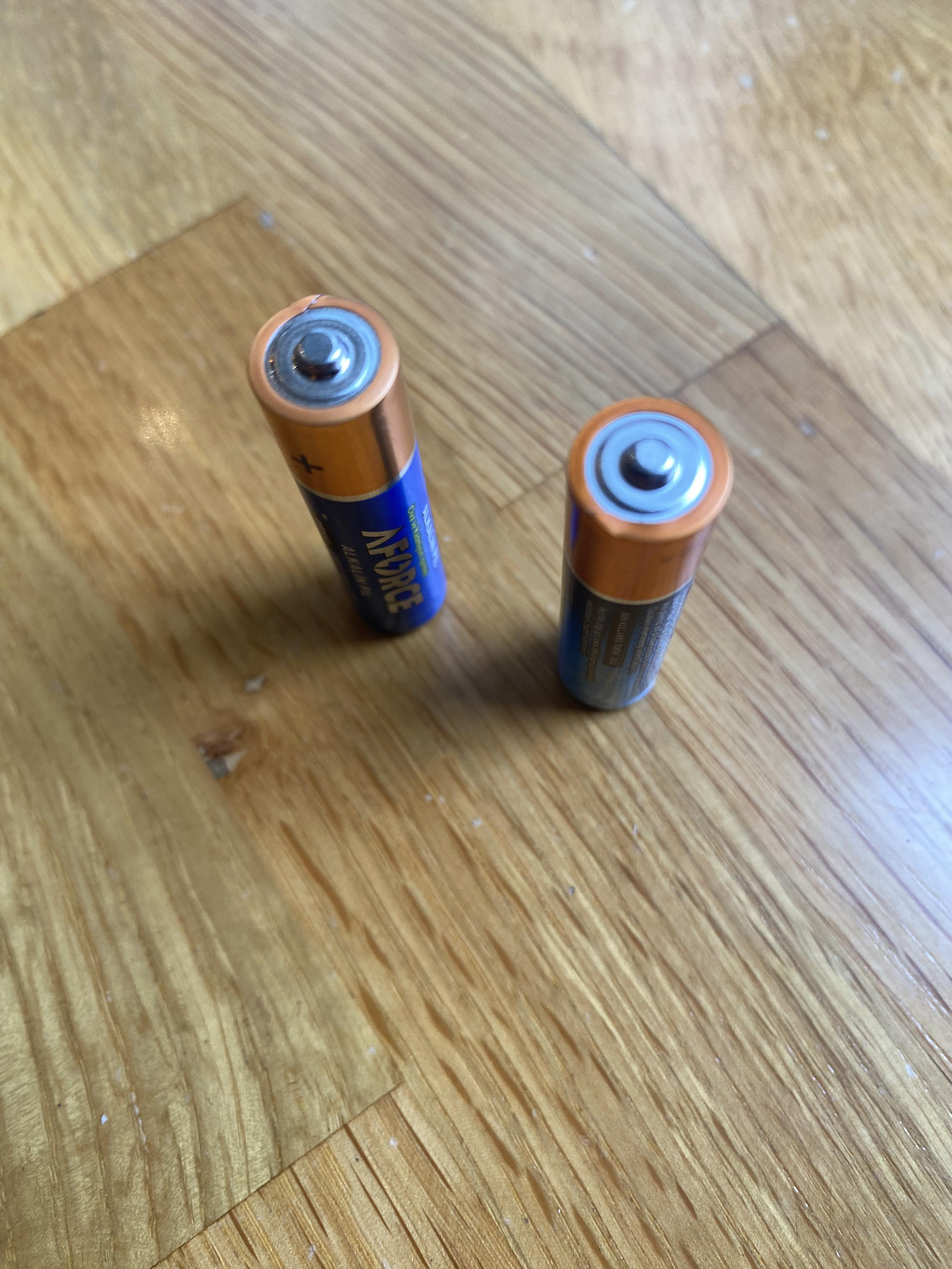AA: (245, 291, 448, 638), (555, 394, 734, 711)
